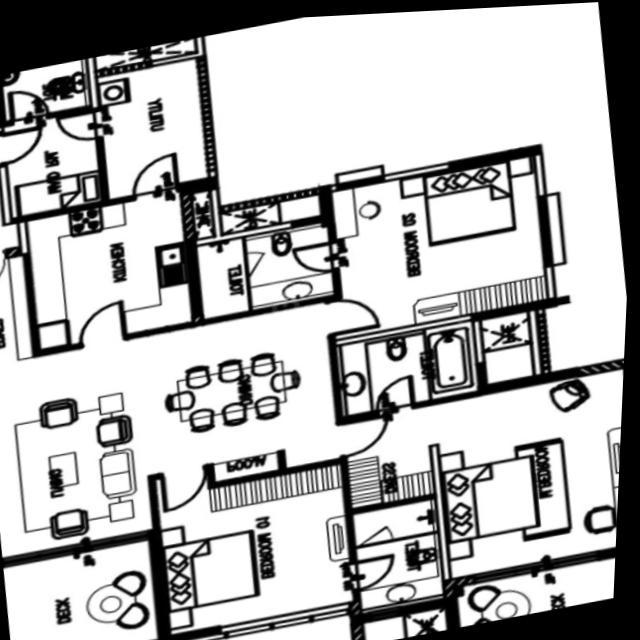Bedroom: (328, 139, 558, 341), (0, 99, 116, 220)
Bedroom with Toilet: (158, 451, 451, 640), (421, 357, 628, 585)
Dining: (163, 339, 312, 436)
Kitchen: (19, 180, 205, 351)
Living: (0, 326, 168, 559)
Toilet: (332, 310, 480, 419), (193, 211, 342, 319), (350, 488, 460, 619), (0, 51, 98, 124)
Utility: (95, 47, 218, 203)
